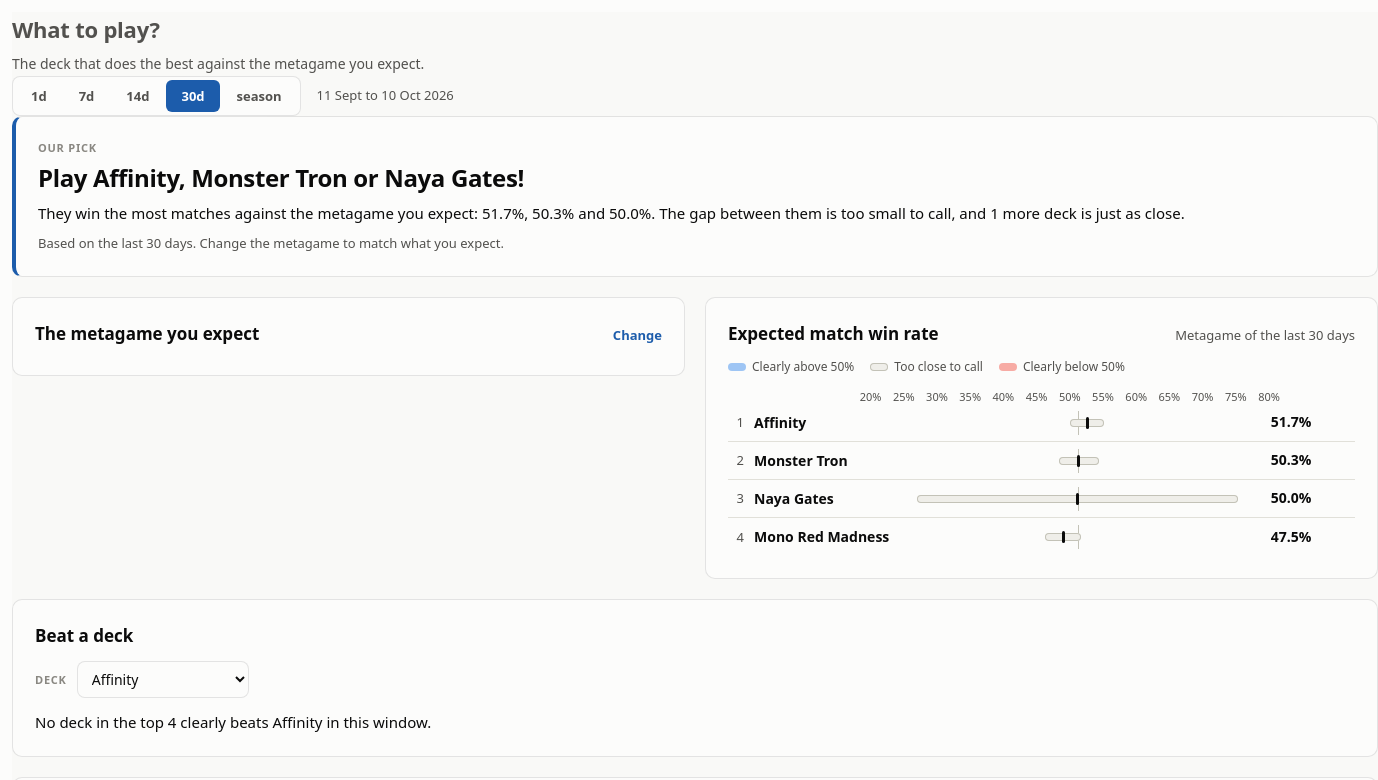
it: WhatToPlayPage › keeps the metagame open across the breakpoint
The width and height of the screenshot is (1378, 780).
Expected: the text "Based on the last 30 days." is shown, [38,234,504,252]
Click the button "Change": [637, 335] box [613,325,662,346]
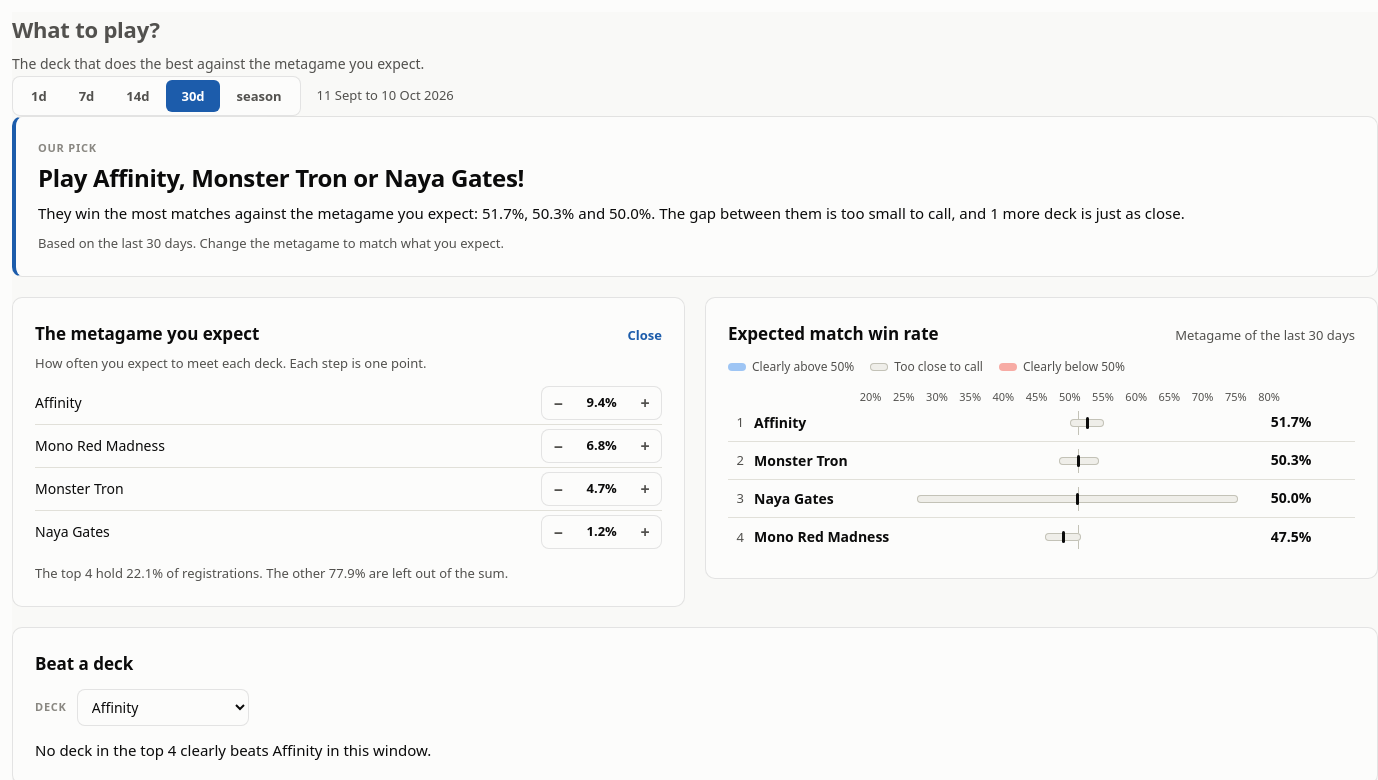
Expected: the button "Close" is shown, [628,325,662,346]
